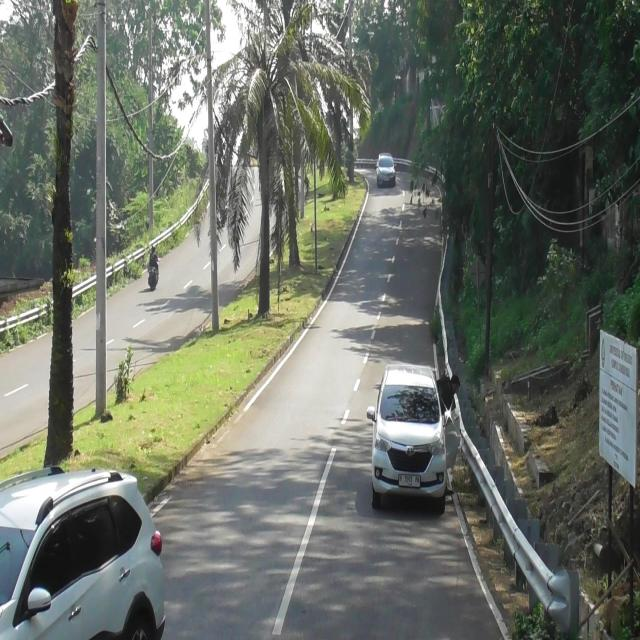motorcycle: (148, 265, 159, 290)
person: (149, 246, 159, 268)
rider_region: (145, 240, 158, 294)
